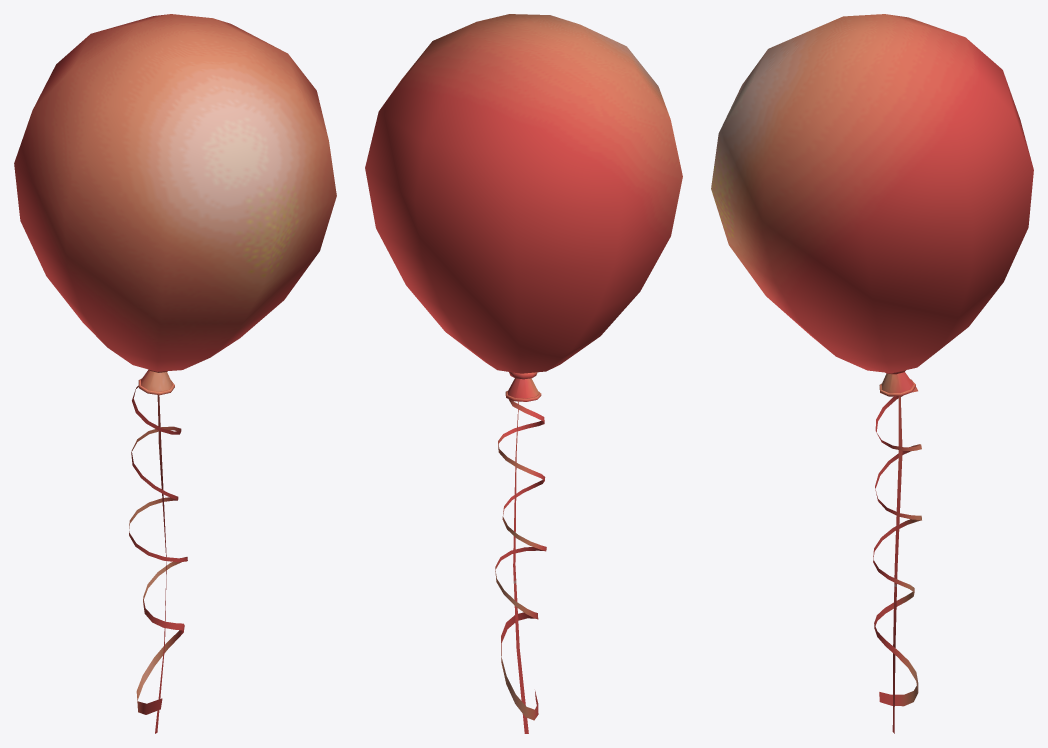
Rendered from QiQiu_02.fbx.
3 renders of one model, left to right at view 1: azimuth 30°, elevation 25°; view 2: azimuth 150°, elevation 25°; view 3: azimuth 270°, elevation 25°, orthographic. The views are drawn at different scales.
Visible parts, largest first — view 1: Qiqiu2; view 2: Qiqiu2; view 3: Qiqiu2.
Boxes of the visible parts, box(x1,y1,x2,y2) form: Qiqiu2: box(14, 14, 336, 733); Qiqiu2: box(365, 14, 682, 733); Qiqiu2: box(711, 14, 1033, 733).
Bounding box in the file's own units: 128 × 312 × 129.
